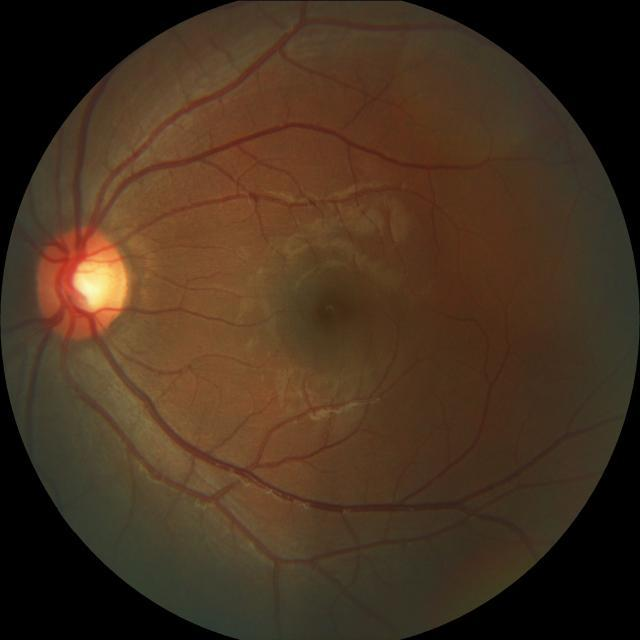OC: (72, 260, 118, 312)
OD: (38, 222, 131, 339)
